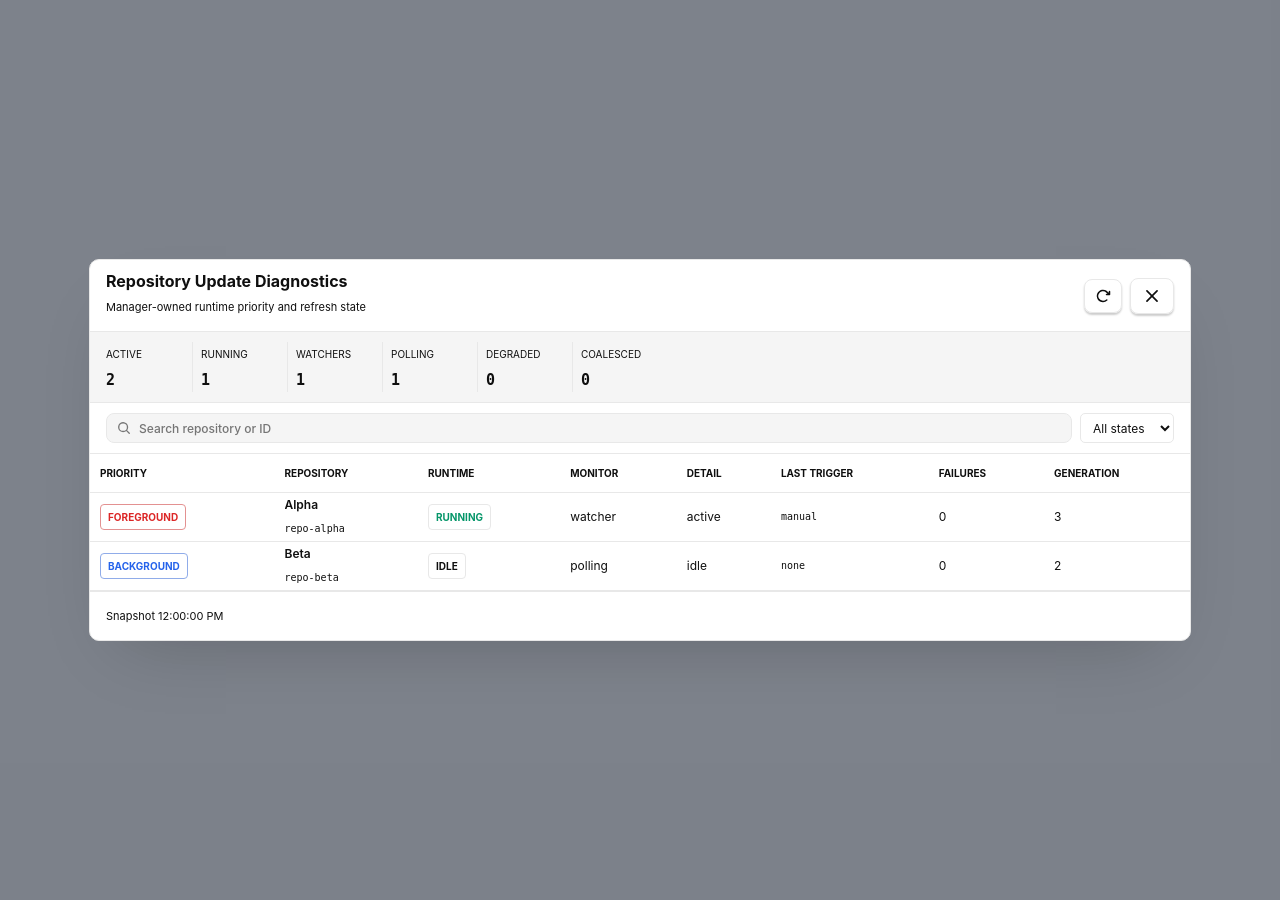
Test: RepositoryUpdateDiagnosticsModal › filters repositories and clears the search
In the field labelled "Search repository or ID": (589, 428) [107, 414, 1071, 442], type "alpha"
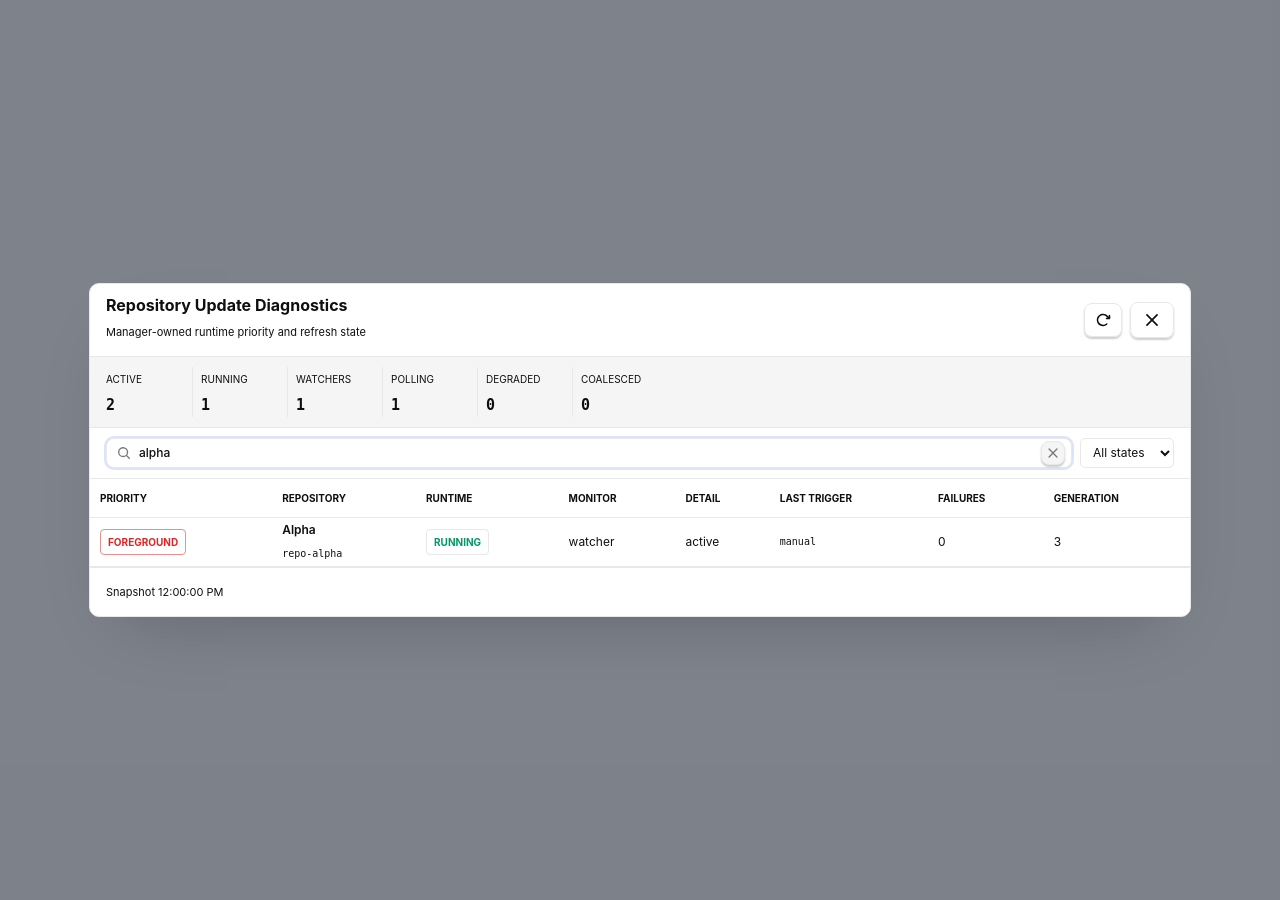
Check: the text "Alpha" is shown, box [282, 522, 316, 537]
Check: the text "Beta" is gone
Click the button named "clear search": (1053, 453) [1041, 441, 1065, 465]
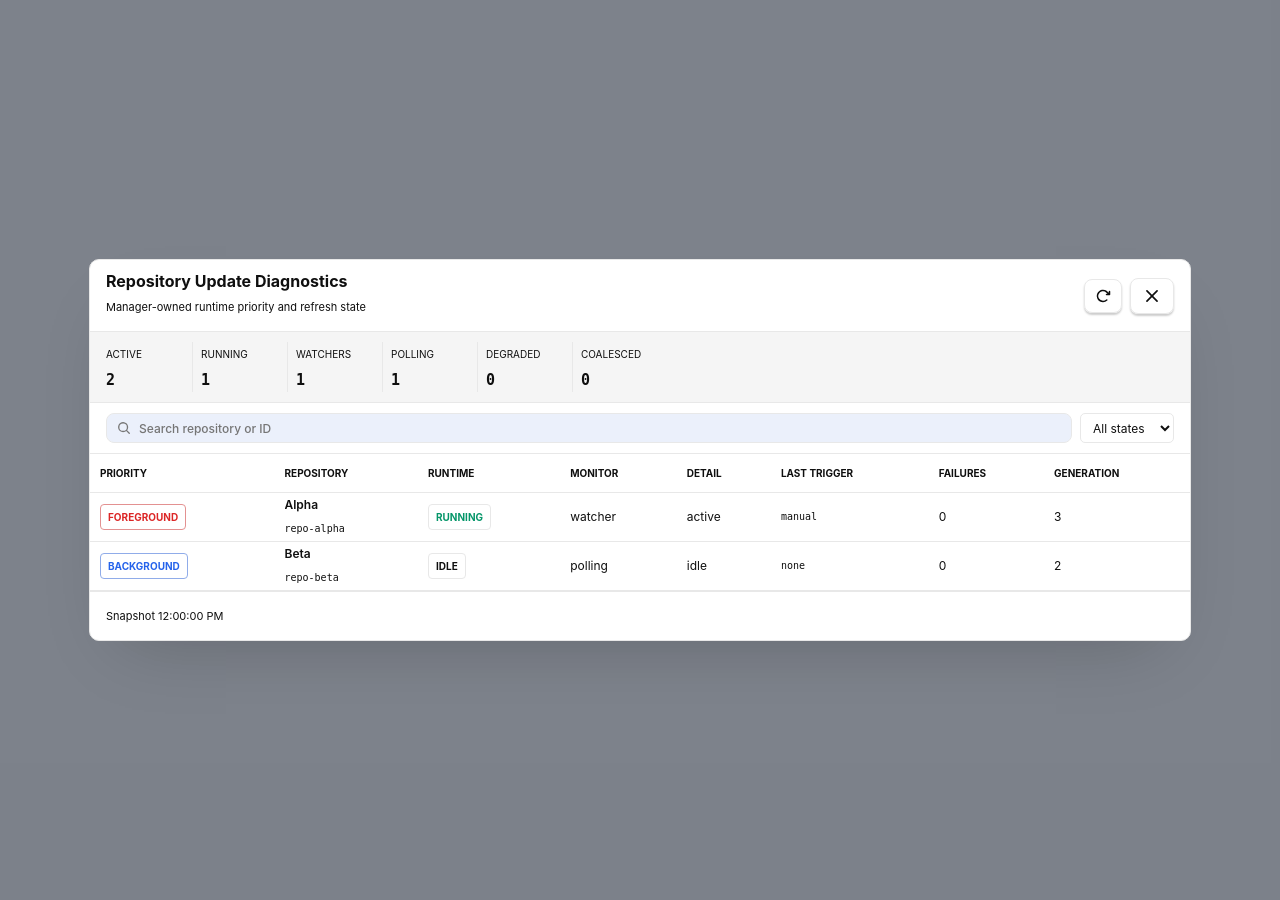
Check: the field labelled "Search repository or ID" is empty, box [107, 414, 1071, 442]
Check: the text "Beta" is shown, box [284, 546, 311, 561]
